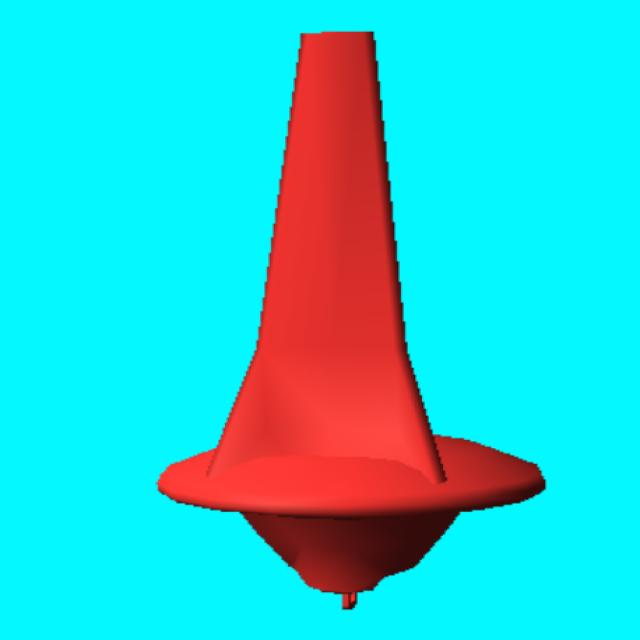RedBuoy: (159, 32, 544, 592), (208, 32, 443, 483)
